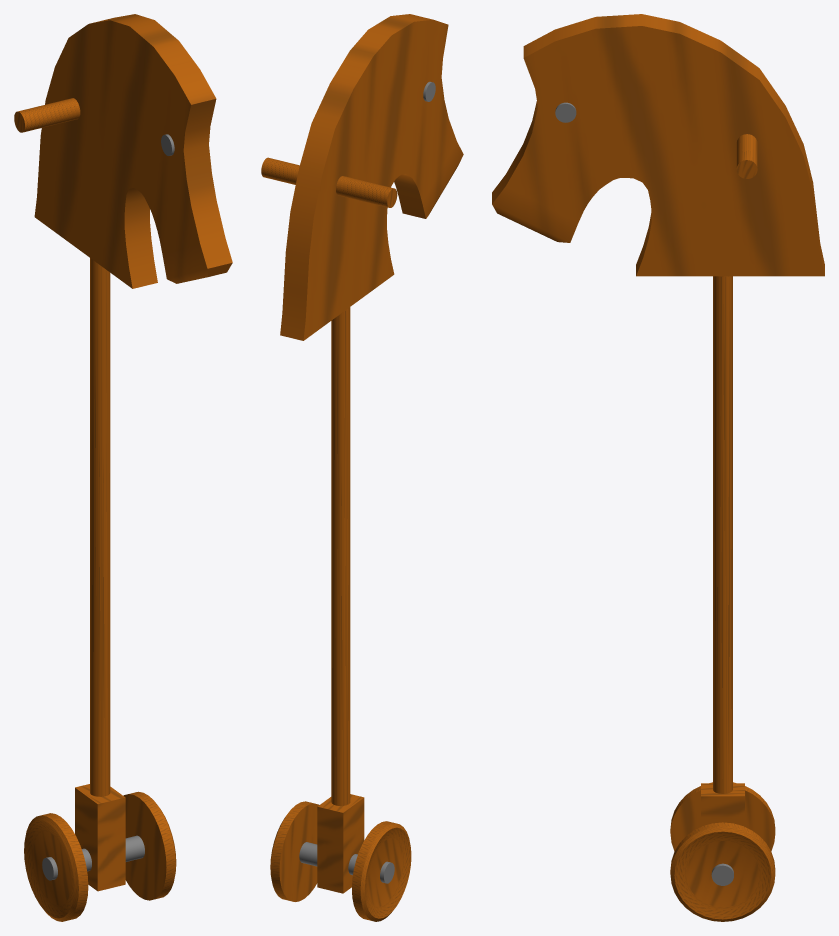
File: toyHorse.obj
3 views of the same model, side by side, from view 1: azimuth 30°, elevation 25°; view 2: azimuth 150°, elevation 25°; view 3: azimuth 270°, elevation 25° (orthographic). The views are drawn at different scales.
Parts seen in each view (by area): view 1: Cube, Cylinder, Cylinder.004, Cube.001, Cylinder.001, Cylinder.003; view 2: Cube, Cylinder, Cylinder.004, Cube.001, Cylinder.001, Cylinder.003; view 3: Cube, Cylinder.004, Cylinder, Cube.001, Cylinder.001.
Boxes of the visible parts, box(x1,y1,x2,y2) form: Cube: box(34, 14, 232, 288); Cylinder: box(90, 258, 110, 796); Cylinder.004: box(24, 791, 176, 921); Cube.001: box(75, 784, 125, 891); Cylinder.001: box(14, 98, 80, 132); Cylinder.003: box(42, 835, 144, 880); Cube: box(280, 14, 463, 340); Cylinder: box(331, 307, 350, 805); Cylinder.004: box(270, 801, 411, 921); Cube.001: box(317, 794, 364, 893); Cylinder.001: box(261, 157, 397, 207); Cylinder.003: box(299, 842, 394, 883); Cube: box(492, 14, 824, 276); Cylinder.004: box(670, 782, 775, 921); Cylinder: box(713, 276, 732, 793); Cube.001: box(701, 783, 744, 826); Cylinder.001: box(736, 134, 757, 178).
Bounding box in the file's own units: 1.44 × 9.24 × 3.17.
2 materials, 2 textured.
